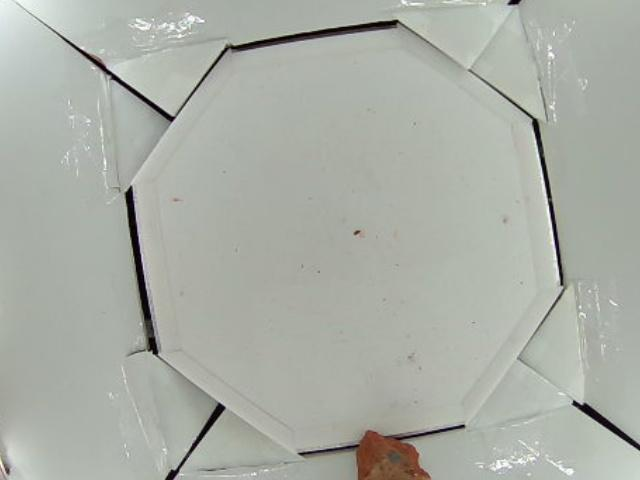Brisk: (356, 429, 435, 480)
